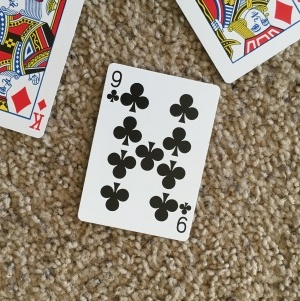card: (77, 61, 222, 240)
